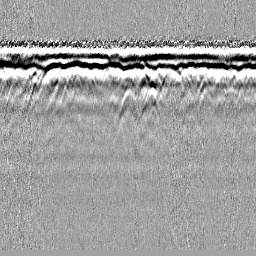cavity: (118, 87, 138, 126)
